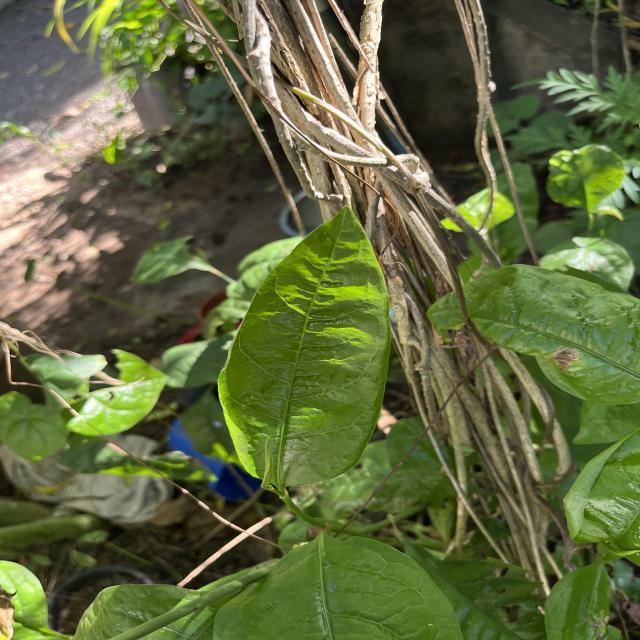Plumbago indica: (210, 195, 396, 500), (421, 259, 640, 412)
